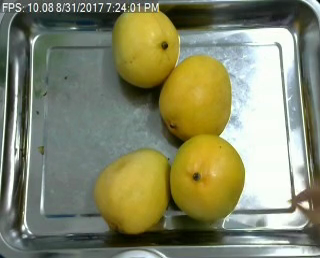Mango: (169, 134, 245, 219), (95, 147, 170, 233), (159, 56, 232, 140), (110, 6, 181, 85)
